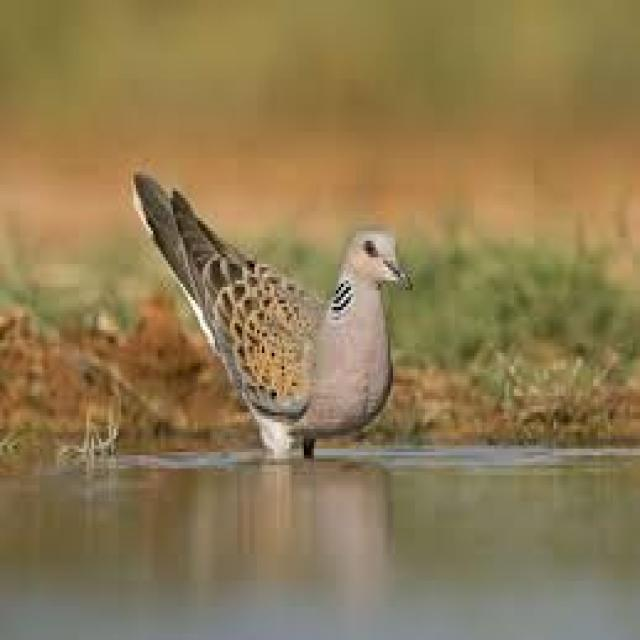pigeon: (120, 150, 424, 488)
